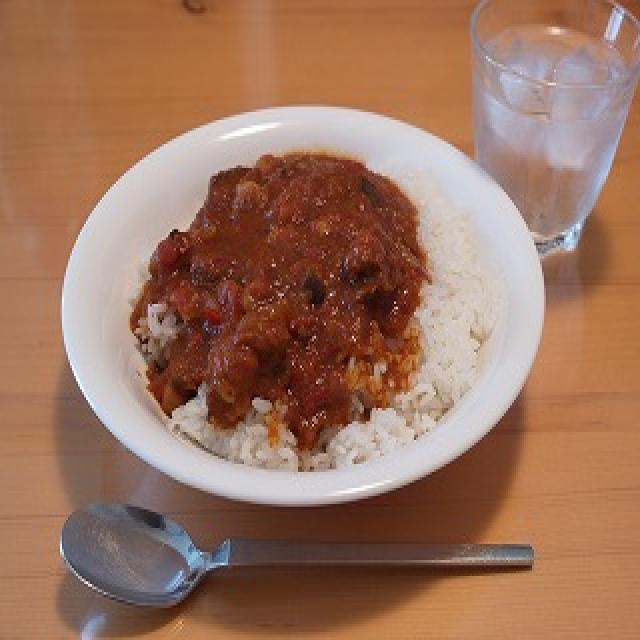Beef Curry: (130, 132, 498, 471)
